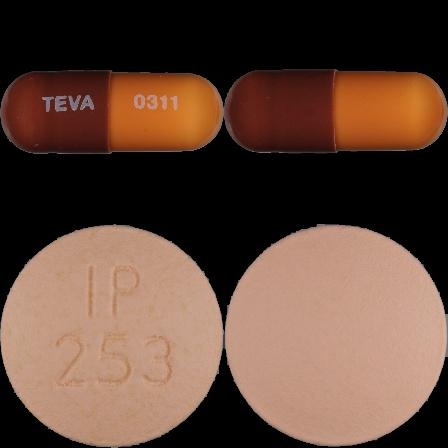55289-315: (0, 0, 224, 224)
